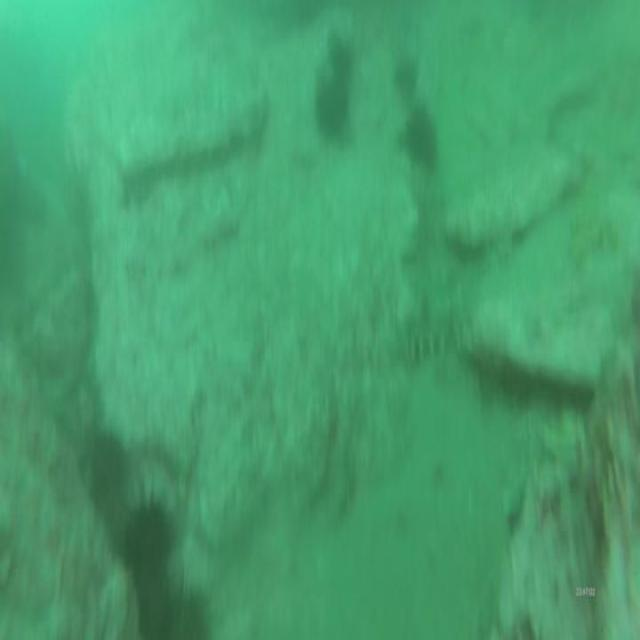echinus: (119, 482, 177, 591), (83, 424, 133, 516), (147, 577, 210, 640), (310, 65, 353, 145), (402, 107, 440, 174), (325, 35, 355, 84), (392, 57, 419, 99)
holothurian: (563, 208, 617, 272), (397, 311, 457, 365)
